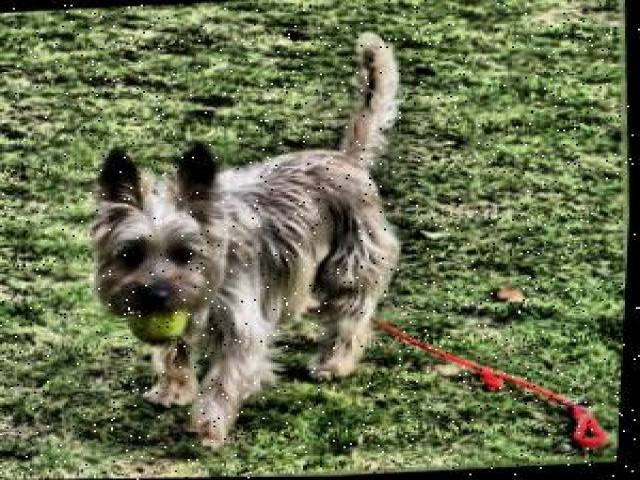tennis-ball: (126, 307, 190, 345)
